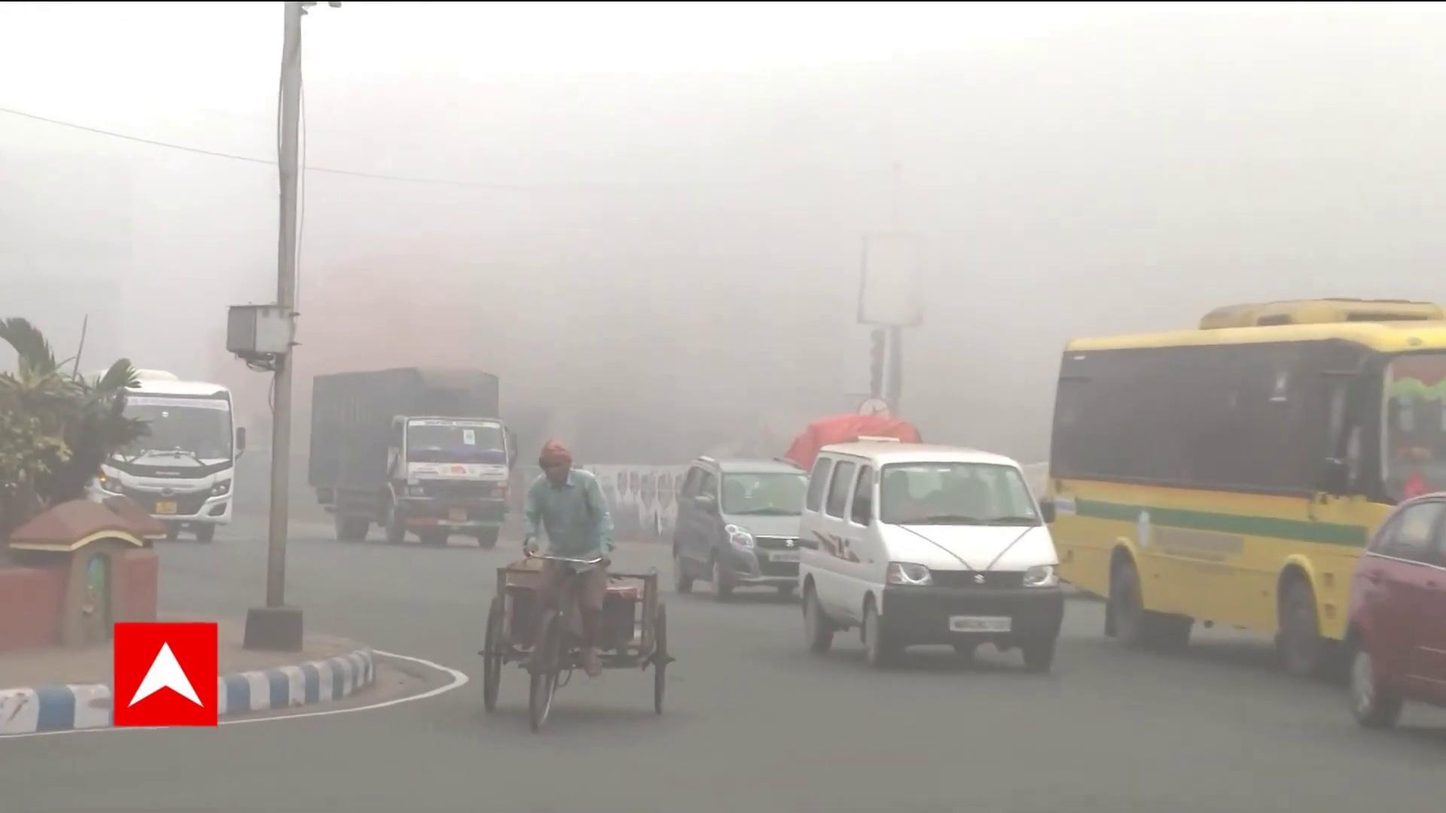Bus: (1052, 296, 1446, 665), (83, 360, 243, 548)
Car: (787, 428, 1065, 674), (665, 452, 796, 604)
Truck: (302, 360, 519, 551)
